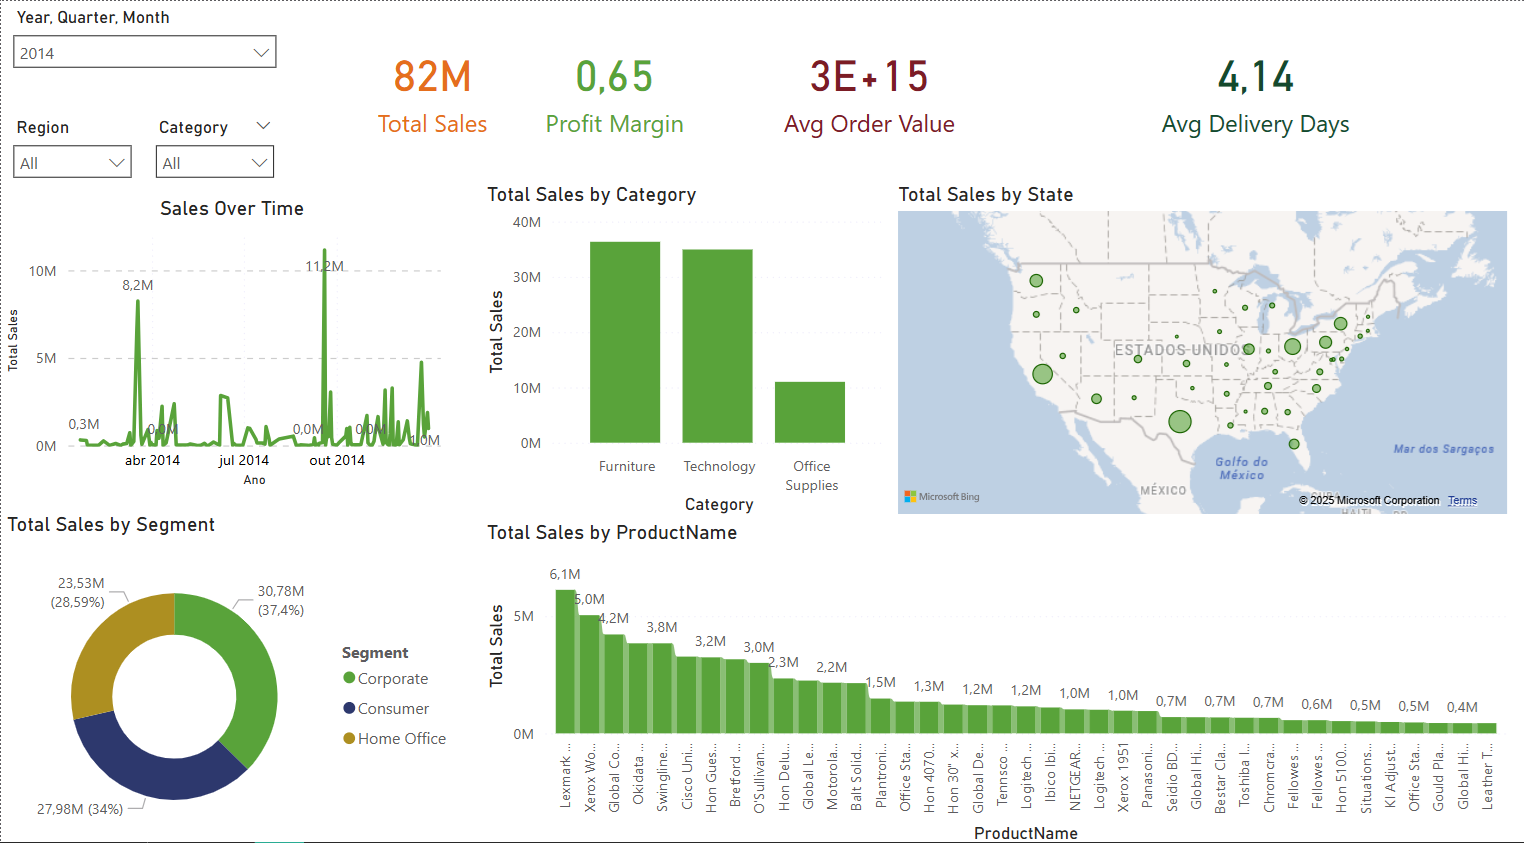

Layout of this report page (visuals, bound fields, positions):
{"tool":"powerbi","page":{"name":"Página 1","canvas":[1280,720],"ordinal":0},"visuals":[{"type":"slicer","fields":{"Values":["dim_data.Year","dim_data.Quarter","dim_data.Month"]},"box":[0,0,241,81],"z":0},{"type":"slicer","fields":{"Values":["dim_cliente.Region"]},"box":[0,92.8,119.5,104.7],"z":1000},{"type":"slicer","fields":{"Values":["dim_produto.Category"]},"box":[119.7,92.8,119.7,104.8],"z":2000},{"type":"card","fields":{"Values":["fact_vendas.Profit Margin"]},"box":[445,0,140.7,145.7],"z":3000},{"type":"card","fields":{"Values":["fact_vendas.Total Sales"]},"box":[290.3,0,143.7,145.7],"z":4000},{"type":"card","fields":{"Values":["fact_vendas.Avg Order Value"]},"box":[605.6,0,247.4,145.7],"z":5000},{"type":"card","fields":{"Values":["fact_vendas.Avg Delivery Days"]},"box":[928.8,0,249.4,145.7],"z":6000},{"type":"lineChart","title":"Sales Over Time","fields":{"Y":["fact_vendas.Total Sales"],"Category":["dim_data.Order Date.Variation.Hierarquia de datas.Ano","dim_data.Order Date.Variation.Hierarquia de datas.Trimestre","dim_data.Order Date.Variation.Hierarquia de datas.Mês","dim_data.Order Date.Variation.Hierarquia de datas.Dia"]},"box":[0,163.6,388.1,249.4],"z":7000},{"type":"clusteredColumnChart","fields":{"Category":["dim_produto.Category"],"Y":["fact_vendas.Total Sales"]},"box":[403.2,152,345.3,283.8],"z":8000},{"type":"columnChart","fields":{"Y":["fact_vendas.Total Sales"],"Category":["dim_produto.ProductName"]},"box":[403.1,436,866,284.3],"z":9000},{"type":"donutChart","fields":{"Y":["fact_vendas.Total Sales"],"Category":["dim_cliente.Segment"]},"box":[0,429.6,388.3,290.8],"z":10000},{"type":"map","fields":{"Size":["fact_vendas.Total Sales"],"Category":["dim_cliente.State"]},"box":[748.5,152,521,283.8],"z":11000}]}

Visuals, with their boxes in screenshot pixels (x1, y1, x2, y2), scaled from the page's 1280x720 canvas onto the 1524x843 screenshot:
slicer - dim_data.Year x dim_data.Quarter: select_region(0, 0, 287, 95)
slicer - dim_cliente.Region: select_region(0, 109, 142, 231)
slicer - dim_produto.Category: select_region(143, 109, 285, 231)
card - fact_vendas.Profit Margin: select_region(530, 0, 697, 171)
card - fact_vendas.Total Sales: select_region(346, 0, 517, 171)
card - fact_vendas.Avg Order Value: select_region(721, 0, 1016, 171)
card - fact_vendas.Avg Delivery Days: select_region(1106, 0, 1403, 171)
"Sales Over Time" lineChart: select_region(0, 192, 462, 484)
clusteredColumnChart - dim_produto.Category x fact_vendas.Total Sales: select_region(480, 178, 891, 510)
columnChart - fact_vendas.Total Sales x dim_produto.ProductName: select_region(480, 510, 1511, 842)
donutChart - fact_vendas.Total Sales x dim_cliente.Segment: select_region(0, 503, 462, 842)
map - fact_vendas.Total Sales x dim_cliente.State: select_region(891, 178, 1511, 510)
